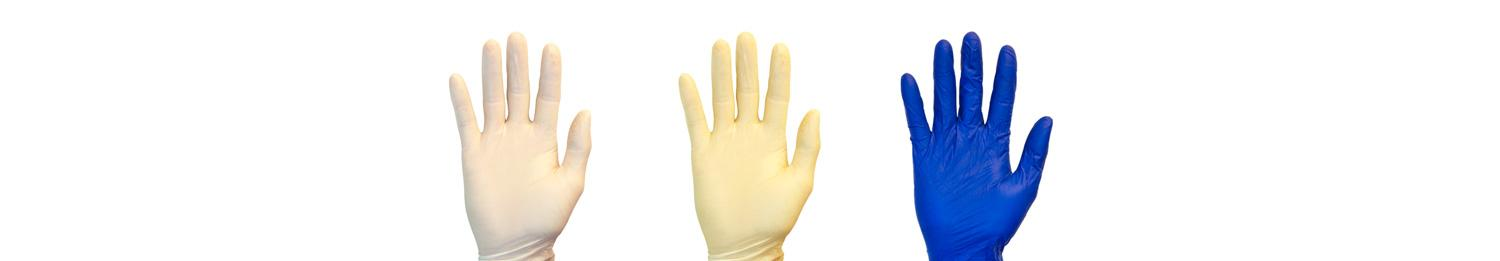gloves: (431, 15, 616, 261), (893, 22, 1054, 261), (680, 34, 819, 260)
